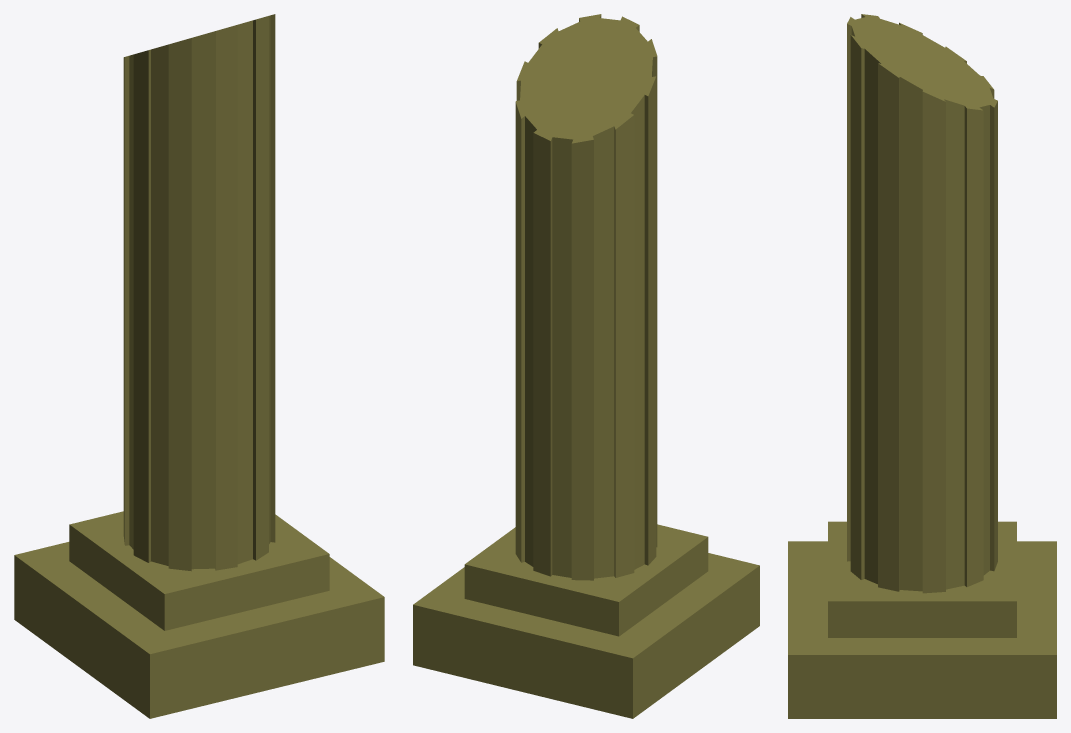
The model's file is colonneGrecquebrisee.fbx.
3 views of the same model, side by side, from view 1: azimuth 30°, elevation 25°; view 2: azimuth 150°, elevation 25°; view 3: azimuth 270°, elevation 25° (orthographic). The views are drawn at different scales.
Visible parts, largest first — view 1: Cube; view 2: Cube; view 3: Cube.
Part boxes in pixels (left/top/right/bottom): Cube: left=14, top=14, right=384, bottom=718; Cube: left=413, top=14, right=759, bottom=718; Cube: left=788, top=14, right=1056, bottom=718.
Size of the model in its own units: 2 by 5.24 by 2.
